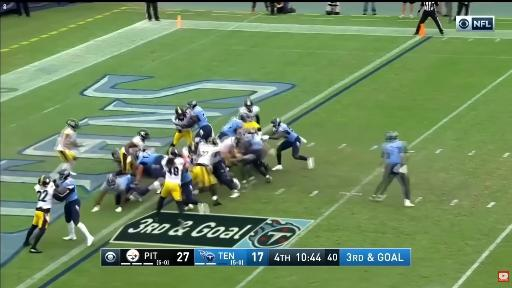Helmet: (38, 175, 51, 187), (58, 169, 70, 182), (66, 119, 79, 130), (137, 129, 150, 140), (175, 107, 185, 120), (106, 174, 116, 186), (239, 113, 252, 122), (385, 132, 398, 141), (188, 144, 198, 155), (244, 99, 253, 111), (271, 117, 281, 127), (168, 148, 179, 157), (112, 149, 120, 161), (208, 137, 218, 146), (188, 100, 197, 109), (137, 149, 144, 160)
Jersey: (382, 140, 407, 163), (162, 157, 184, 183), (35, 183, 55, 209), (196, 144, 218, 166), (55, 127, 76, 150), (60, 178, 78, 202), (275, 123, 297, 141), (137, 151, 159, 168), (222, 119, 243, 136), (114, 175, 134, 192), (192, 106, 208, 127), (174, 112, 191, 131), (128, 136, 145, 154), (243, 134, 263, 149), (218, 137, 235, 153), (239, 106, 259, 118), (244, 121, 260, 130), (182, 168, 191, 183)
Player: (370, 132, 414, 206), (155, 149, 189, 229), (263, 118, 314, 170), (58, 170, 93, 245), (24, 176, 55, 253), (189, 142, 221, 205), (239, 130, 272, 182), (211, 139, 240, 197), (92, 174, 137, 211), (181, 154, 209, 213), (53, 119, 83, 174), (118, 129, 150, 174), (136, 151, 165, 196), (188, 101, 213, 142), (170, 107, 194, 148), (218, 136, 241, 166), (218, 118, 243, 141), (239, 99, 260, 124), (239, 113, 261, 133)
